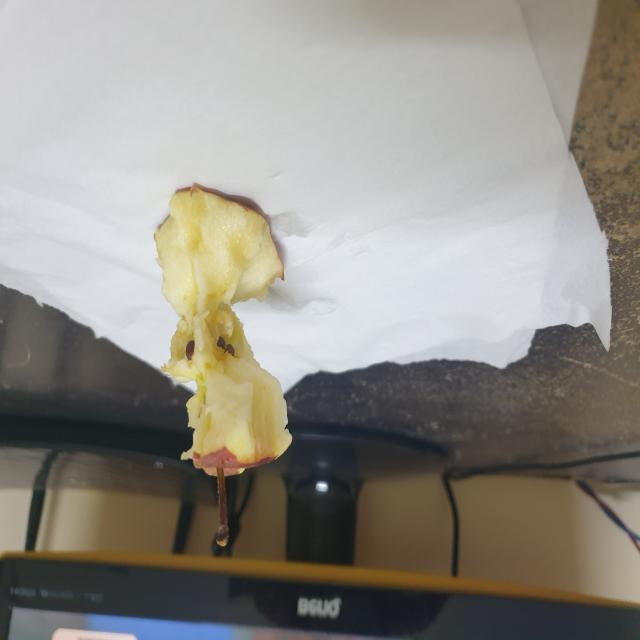apple: (148, 166, 304, 558)
